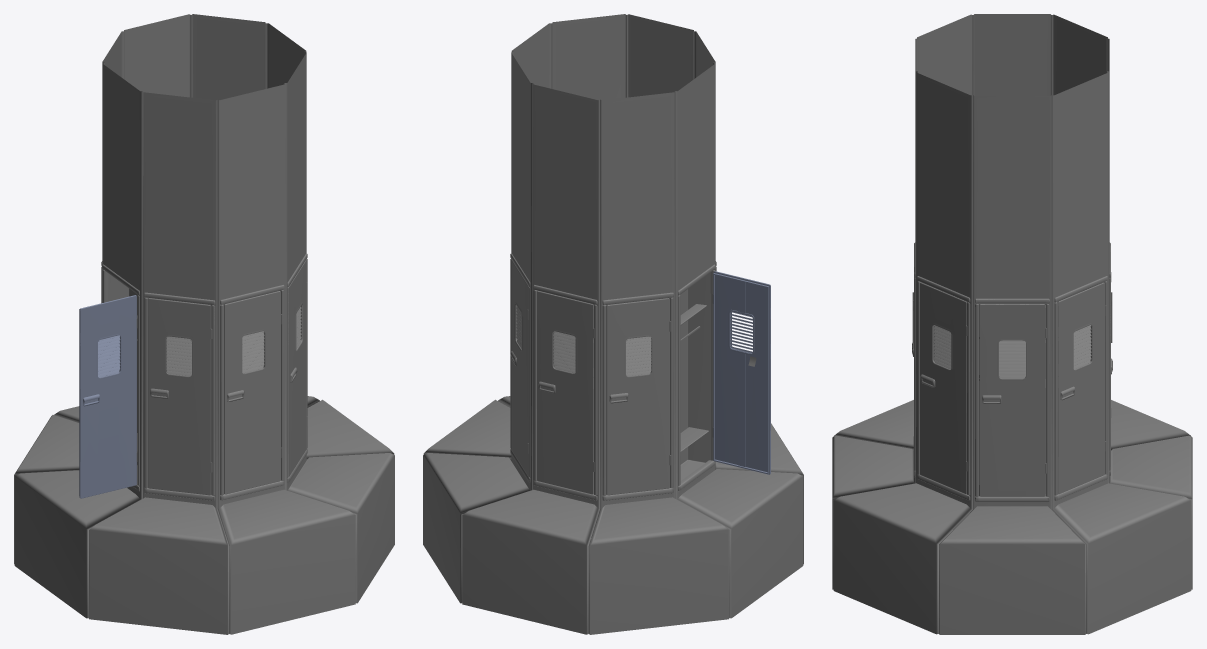
File: HyberSeats.fbx
3 views of the same model, side by side, from view 1: azimuth 30°, elevation 25°; view 2: azimuth 150°, elevation 25°; view 3: azimuth 270°, elevation 25° (orthographic).
Visible parts, largest first — view 1: Object058, Object057, Object059, Object064, Dummy011, Dummy010, Dummy012, Object062, Object061, Object063, Object060, Dummy013 (+6 smaller); view 2: Object060, Object061, Object059, Object062, Dummy009, Dummy008, Dummy010, Object064, Object057, Object063, Dummy015, Box232 (+7 smaller); view 3: Object063, Object062, Object064, Dummy014, Dummy015, Dummy013, Object059, Object058, Object060, Object057, Object061, Box228 (+5 smaller).
Boxes of the visible parts, <box> form: Object058: <box>88,92,229,634</box>; Object057: <box>217,83,355,634</box>; Object059: <box>14,63,143,618</box>; Object064: <box>284,51,394,603</box>; Dummy011: <box>147,298,211,495</box>; Dummy010: <box>79,295,136,498</box>; Dummy012: <box>224,291,280,494</box>; Object062: <box>191,14,319,407</box>; Object061: <box>54,14,191,422</box>; Object063: <box>265,23,394,459</box>; Object060: <box>14,31,124,564</box>; Dummy013: <box>289,260,306,475</box>; Object060: <box>588,92,729,634</box>; Object061: <box>462,83,600,634</box>; Object059: <box>674,63,803,618</box>; Object062: <box>423,51,533,603</box>; Dummy009: <box>606,298,670,495</box>; Dummy008: <box>537,291,593,494</box>; Dummy010: <box>713,271,770,474</box>; Object064: <box>498,14,626,407</box>; Object057: <box>626,14,693,97</box>; Object063: <box>423,23,552,459</box>; Dummy015: <box>510,260,528,475</box>; Box232: <box>602,292,673,500</box>; Object063: <box>939,95,1085,634</box>; Object062: <box>1051,72,1191,634</box>; Object064: <box>833,72,973,634</box>; Dummy014: <box>979,304,1045,496</box>; Dummy015: <box>1057,282,1104,493</box>; Dummy013: <box>920,282,967,493</box>; Object059: <box>973,14,1051,95</box>; Object058: <box>833,14,973,450</box>; Object060: <box>1051,14,1191,450</box>; Object057: <box>832,38,918,589</box>; Object061: <box>1106,38,1192,589</box>; Box228: <box>917,276,970,500</box>.
Size of the model in its own units: 338 by 521 by 338.
